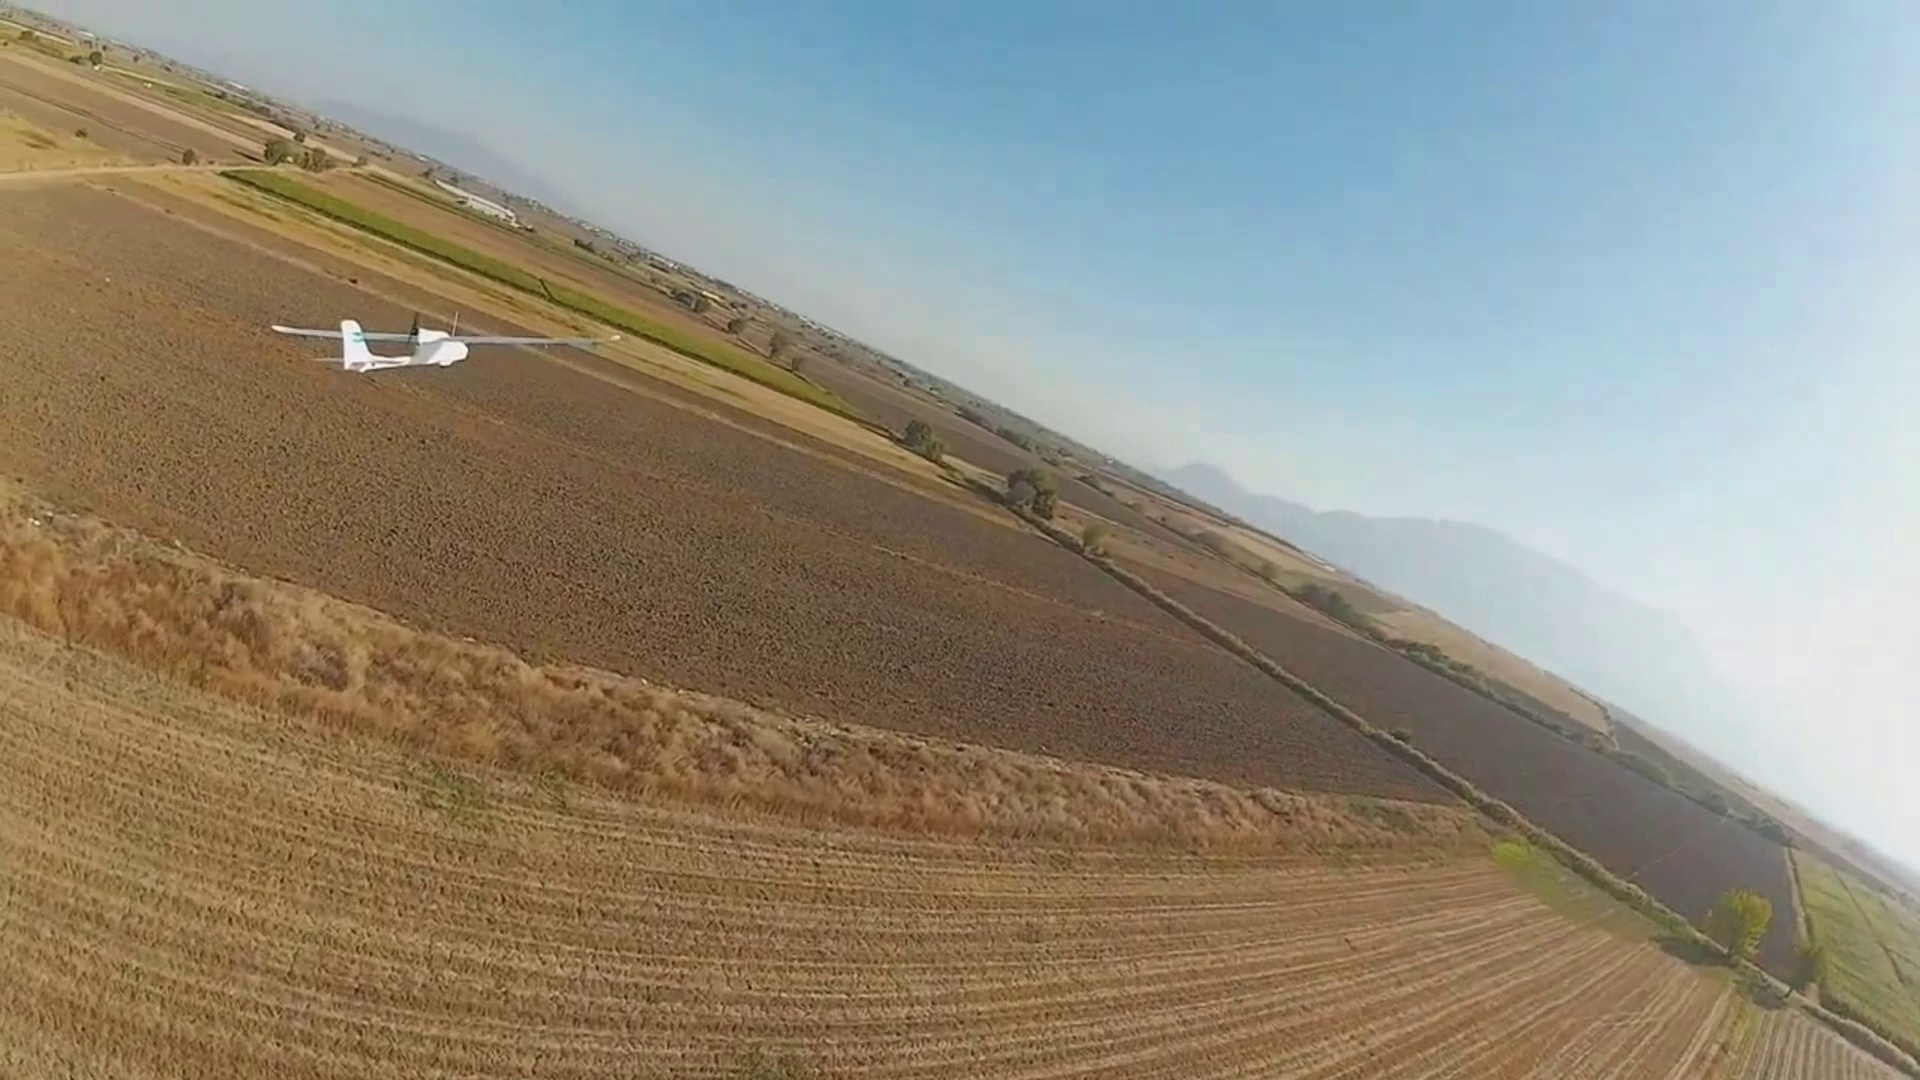airplane: (268, 315, 469, 375)
